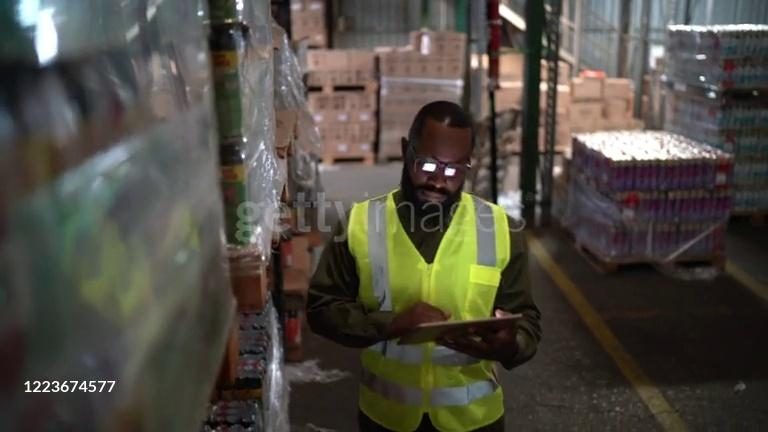person: (305, 101, 543, 432)
